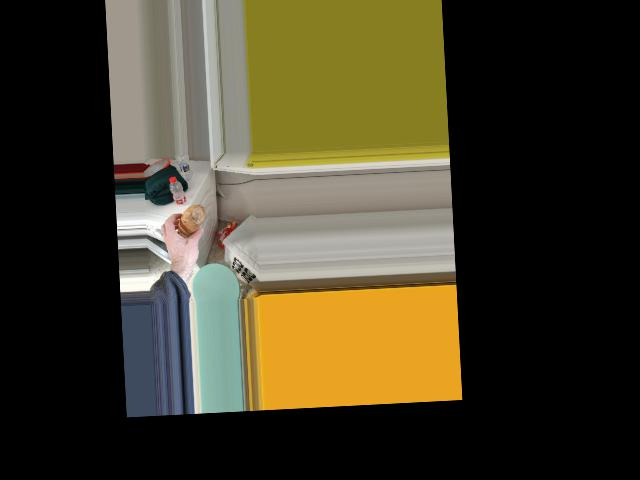sweet_potato: (177, 203, 205, 238)
